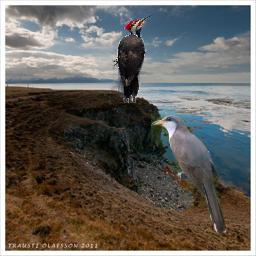Cuckoo: (151, 113, 229, 237)
Woodpecker: (109, 13, 156, 103)
